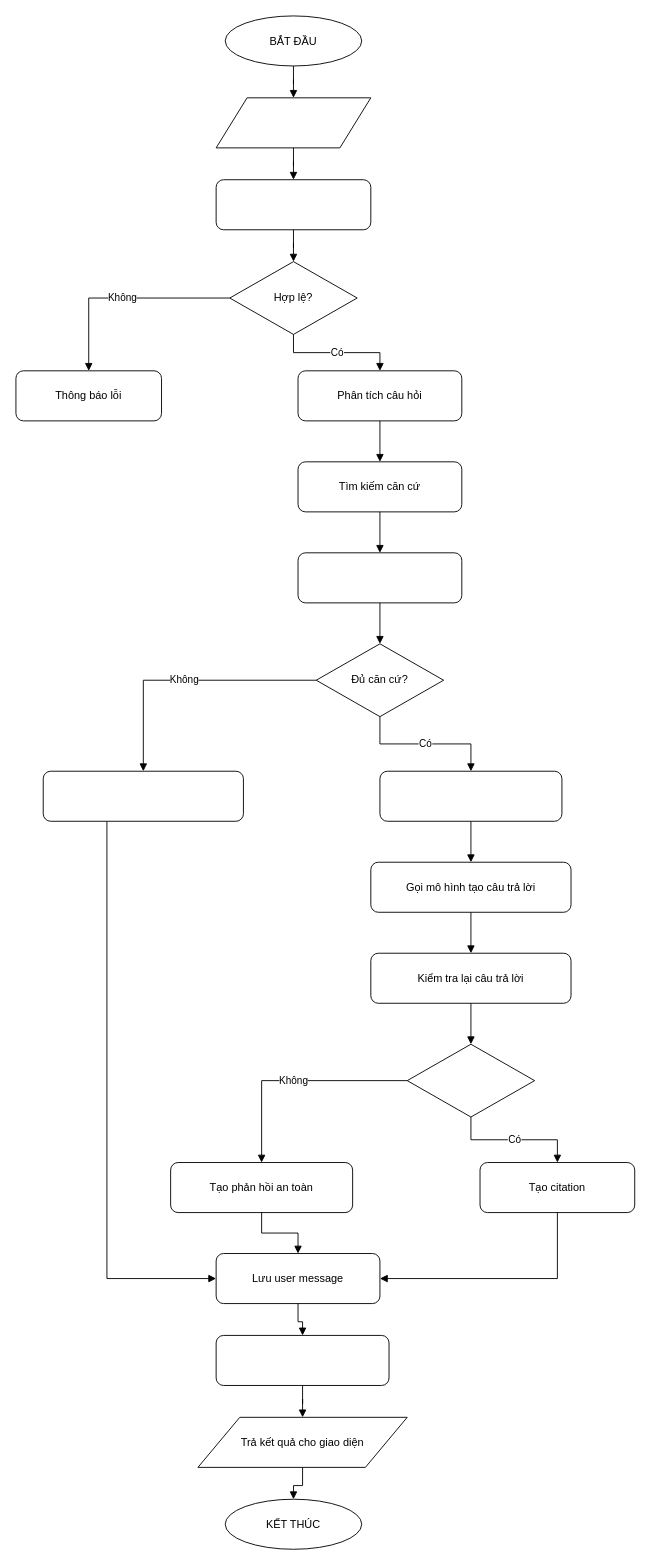
The diagram is 651 pixels wide and 1565 high, and some of its shapes have lost their labels. The centre of each missing label's shape, as x and y in pixels:
"Kiểm tra câu hỏi" goes at (293,204).
"Kết quả hợp lệ?" goes at (470,1080).
"Lưu assistant message" goes at (302,1360).
"Nhập câu hỏi" goes at (293,122).
"Tạo phản hồi thiếu căn cứ" goes at (142,795).
"Tạo prompt từ căn cứ" goes at (470,795).
"Đánh giá căn cứ" goes at (379,577).
